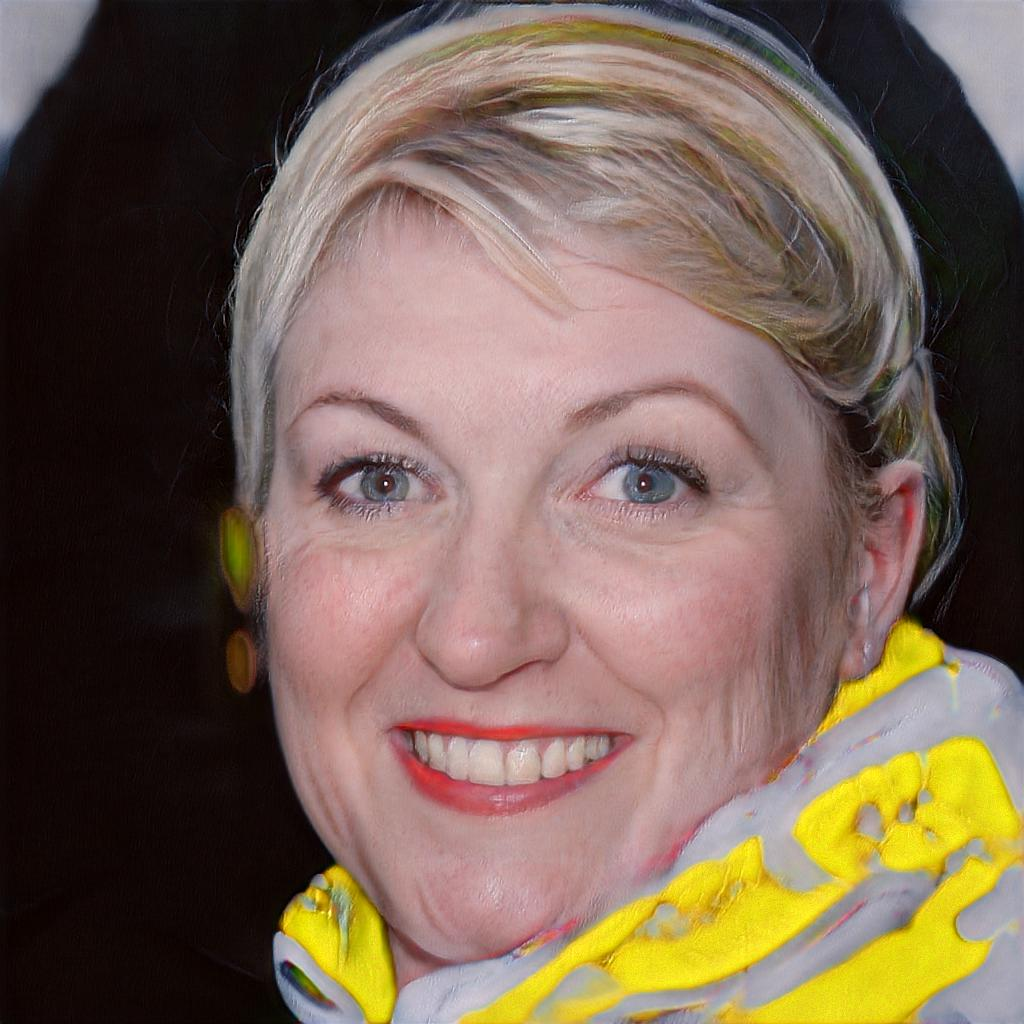face: (266, 199, 843, 959)
